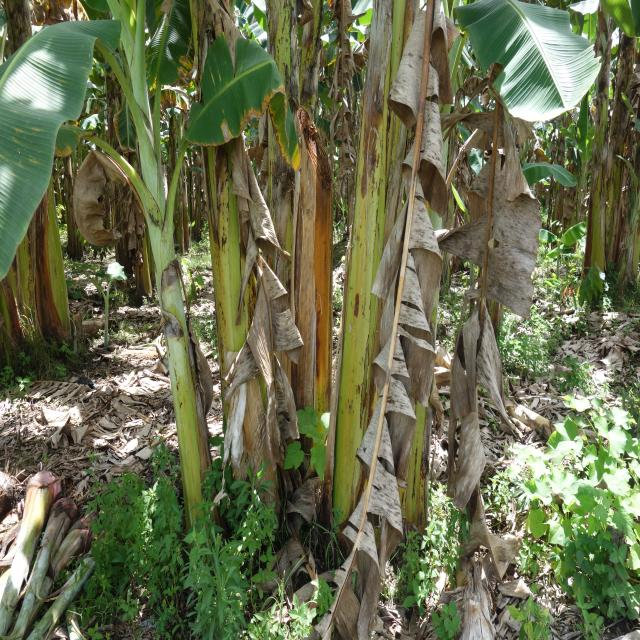Banana-plant: (101, 26, 215, 566), (180, 9, 284, 536), (338, 0, 412, 548), (262, 3, 336, 422)
